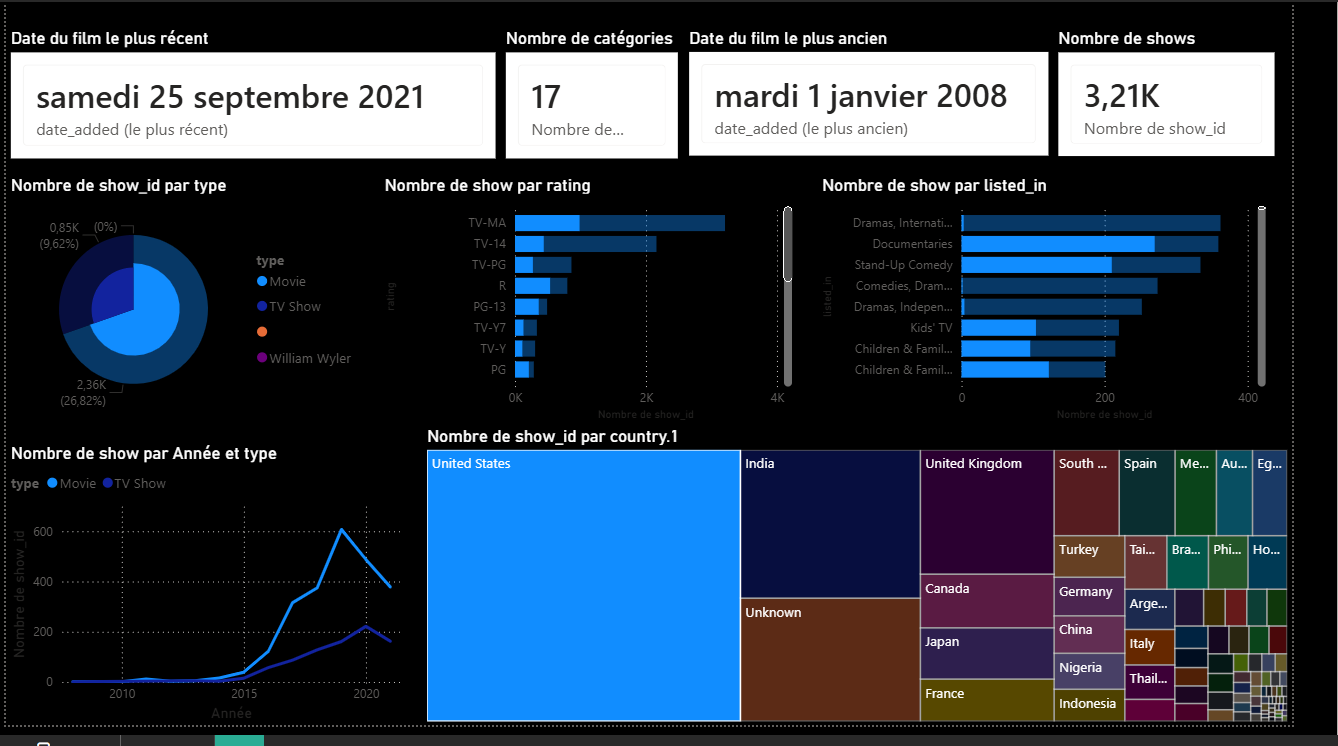

This screenshot's page, from the dashboard's own definition file:
{"tool":"powerbi","page":{"name":"Page 1","canvas":[1280,720],"ordinal":0},"visuals":[{"type":"cardVisual","title":"Nombre de shows","fields":{"Data":["Count(netflix_titles.show_id)"]},"box":[1042.9,26.1,225,133.1],"z":0},{"type":"cardVisual","title":"Date du film le plus ancien","fields":{"Data":["Min(netflix_titles.date_added)"]},"box":[673.8,24.7,369.1,134.5],"z":1000},{"type":"cardVisual","title":"Nombre de categories","fields":{"Data":["Count(netflix_titles.listed_in)"]},"box":[522.8,260.7,192.1,134.5],"z":2000},{"type":"cardVisual","title":"Nombre de catégories","fields":{"Data":["Count(netflix_titles.rating)"]},"box":[492.6,26.1,181.1,134.5],"z":3000},{"type":"cardVisual","title":"Date du film le plus récent","fields":{"Data":["Max(netflix_titles.date_added)"]},"box":[0,26.1,492.6,134.5],"z":4000},{"type":"pieChart","fields":{"Y":["CountNonNull(netflix_titles.show_id)"],"Category":["netflix_titles.type"]},"box":[0,171.5,358.1,249.7],"z":5000},{"type":"barChart","title":"Nombre de show par rating","fields":{"Category":["netflix_titles.rating"],"Y":["CountNonNull(netflix_titles.show_id)"]},"box":[358.1,171.5,429.5,241.5],"z":6000},{"type":"barChart","title":"Nombre de show par listed_in","fields":{"Category":["netflix_titles.listed_in"],"Y":["CountNonNull(netflix_titles.show_id)"]},"box":[787.7,171.5,470.7,249.7],"z":7000},{"type":"lineChart","title":"Nombre de show par Année et type","fields":{"Category":["netflix_titles.date_added.Variation.Hiérarchie de dates.Année","netflix_titles.date_added.Variation.Hiérarchie de dates.Trimestre","netflix_titles.date_added.Variation.Hiérarchie de dates.Mois","netflix_titles.date_added.Variation.Hiérarchie de dates.Jour"],"Y":["CountNonNull(netflix_titles.show_id)"],"Series":["netflix_titles.type"]},"box":[0,439.1,400.7,281.3],"z":8000},{"type":"treemap","fields":{"Group":["netflix_titles.country.1"],"Values":["CountNonNull(netflix_titles.show_id)"]},"box":[414.4,421.3,865.9,299.1],"z":9000}]}

Visuals, with their boxes in screenshot pixels (x1, y1, x2, y2), scaled from the page's 1280x720 canvas onto the 1338x746 screenshot:
"Nombre de shows" cardVisual: 1090/27/1325/165
"Date du film le plus ancien" cardVisual: 704/26/1090/165
"Nombre de categories" cardVisual: 546/270/747/409
"Nombre de catégories" cardVisual: 515/27/704/166
"Date du film le plus récent" cardVisual: 0/27/515/166
pieChart - CountNonNull(netflix_titles.show_id) x netflix_titles.type: 0/178/374/436
"Nombre de show par rating" barChart: 374/178/823/428
"Nombre de show par listed_in" barChart: 823/178/1315/436
"Nombre de show par Année et type" lineChart: 0/455/419/745
treemap - netflix_titles.country.1 x CountNonNull(netflix_titles.show_id): 433/437/1337/745
